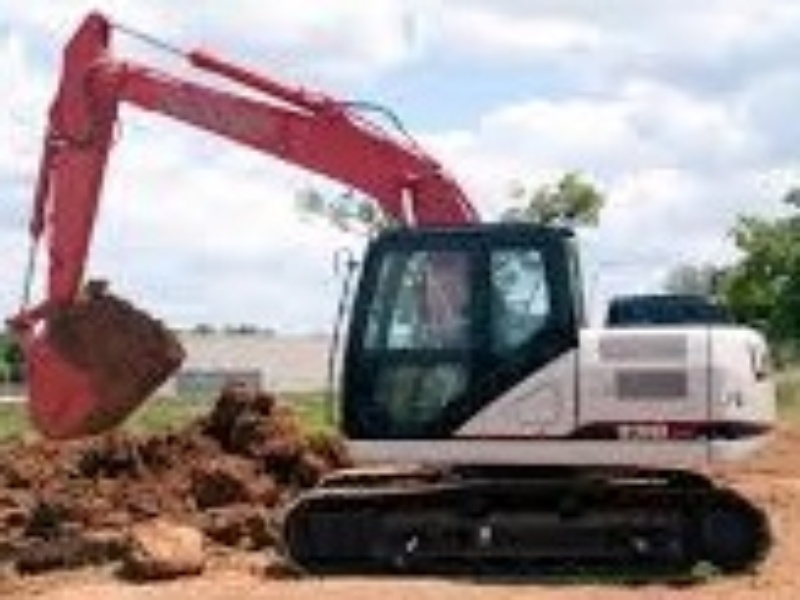wajueji: (25, 8, 782, 587)
